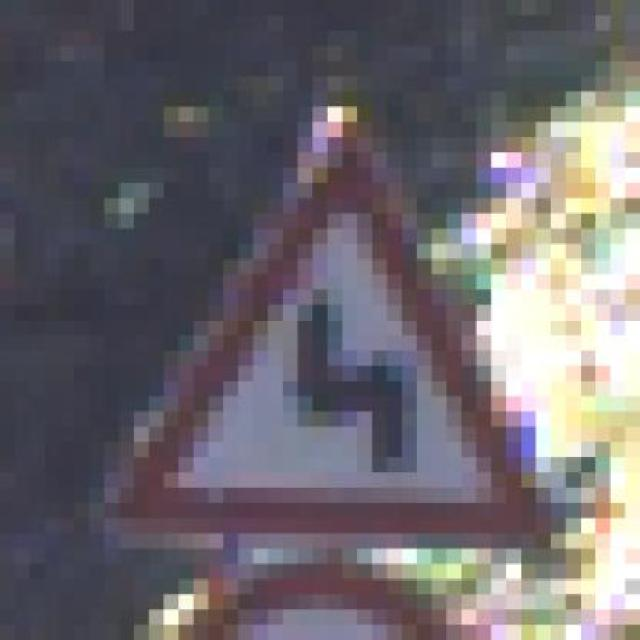Left Zig Zag Traffic: (89, 91, 566, 548)
